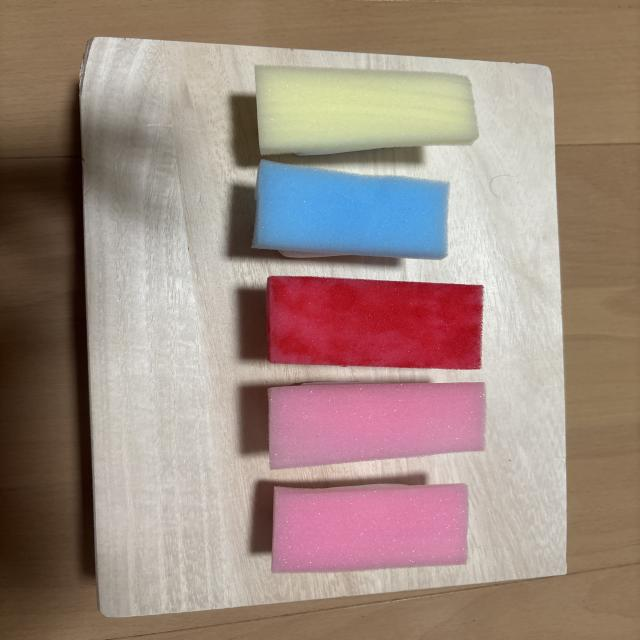ika: (252, 160, 450, 259)
maguro: (267, 276, 483, 369)
tai: (268, 382, 486, 469), (271, 484, 468, 573)
tamago: (255, 66, 478, 154)
